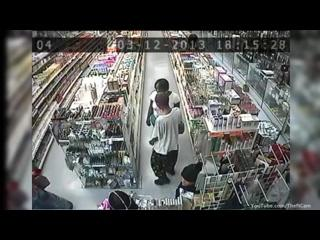Normal: (147, 93, 181, 186), (146, 78, 180, 126)
